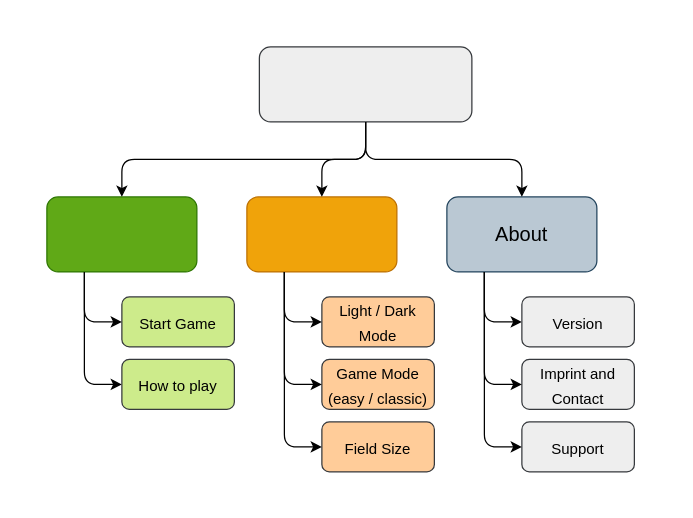
Image size: 693x518. Some labels were removed from this diagram. Here are the shapes that lost their labels. From the top down, the box of each, then its label:
(258, 46, 472, 122): Pila - Menu Screen
(46, 196, 197, 272): Play
(246, 196, 397, 272): Settings
